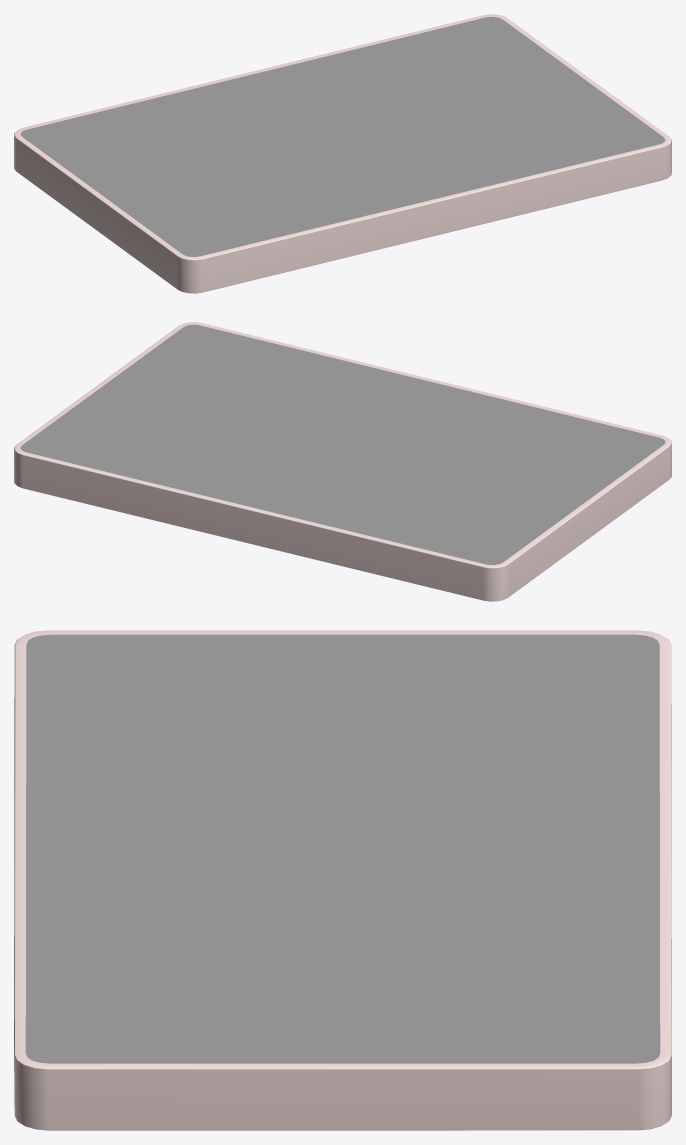
File: Public_20_Base_1.glb
3 views of the same model, one above another, from view 1: azimuth 30°, elevation 25°; view 2: azimuth 150°, elevation 25°; view 3: azimuth 270°, elevation 25° (orthographic). The views are drawn at different scales.
Parts seen in each view (by area): view 1: Public_20_Base_1; view 2: Public_20_Base_1; view 3: Public_20_Base_1.
Boxes of the visible parts, x1,y1,x2,y2 form: Public_20_Base_1: (14, 14, 671, 293); Public_20_Base_1: (14, 322, 671, 601); Public_20_Base_1: (14, 630, 671, 1130).
Bounding box in the file's own units: 19.12 × 1.27 × 12.11.
1 material, 1 textured.
